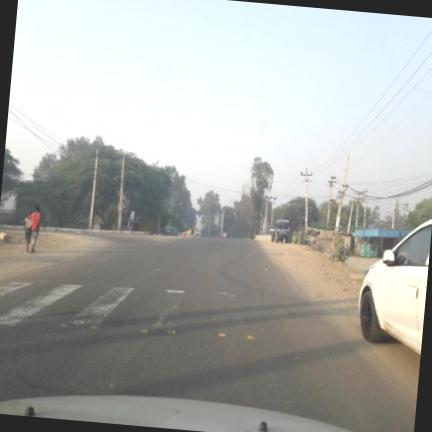Road: (0, 236, 419, 431)
